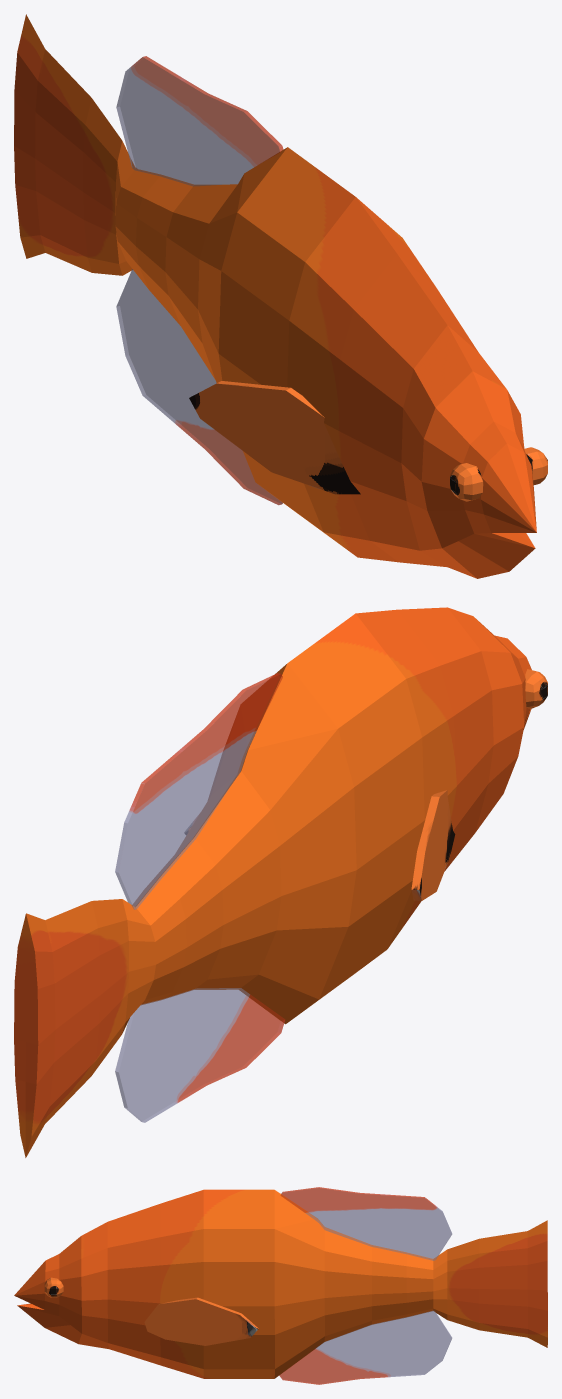
Rendered from ScaleFish.glb.
3 views of the same model, one above another, from view 1: azimuth 30°, elevation 25°; view 2: azimuth 150°, elevation 25°; view 3: azimuth 270°, elevation 25° (orthographic). The views are drawn at different scales.
Parts seen in each view (by area): view 1: Body, LooseBody, Fins, Eyes; view 2: Body, LooseBody, Fins, Eyes; view 3: Body, LooseBody, Fins, Eyes.
Boxes of the visible parts, bbox=[...] form: Body: bbox=[14, 14, 536, 578]; LooseBody: bbox=[116, 56, 283, 505]; Fins: bbox=[189, 381, 360, 494]; Eyes: bbox=[450, 447, 547, 501]; Body: bbox=[14, 607, 531, 1157]; LooseBody: bbox=[115, 673, 284, 1122]; Fins: bbox=[184, 790, 455, 900]; Eyes: bbox=[525, 669, 547, 708]; Body: bbox=[14, 1189, 547, 1378]; LooseBody: bbox=[279, 1187, 452, 1384]; Fins: bbox=[144, 1297, 258, 1345]; Eyes: bbox=[44, 1277, 63, 1297].
Size of the model in its own units: 0.1387 by 0.212 by 0.5213.
Materials: 4 (4 with a texture image).
